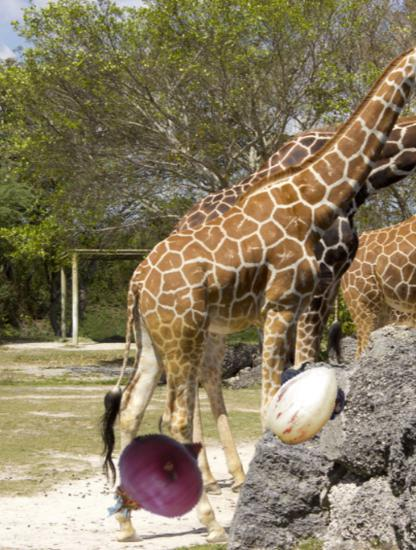Dates: (277, 355, 350, 428)
Onion: (87, 417, 216, 546)
Pepino: (260, 359, 350, 449)
